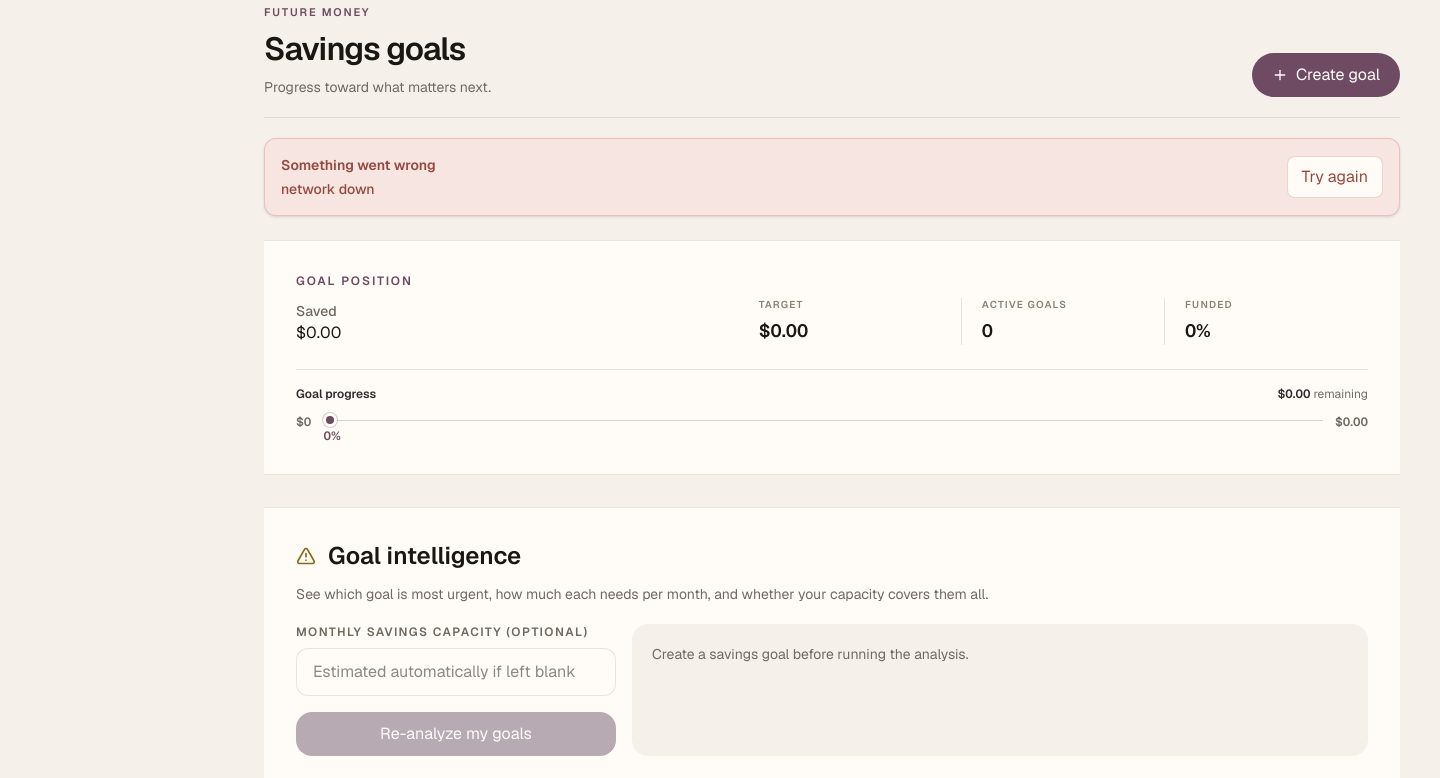
Test: goals loading and error states › shows a retryable error instead of an empty state when the initial load fails
This screenshot has width=1440, height=778.
Expected: the text "network down" is shown, [281,180,374,198]
Click the button "Try again". click: (1335, 176)
box: [1286,156,1383,198]
(page scrolled)
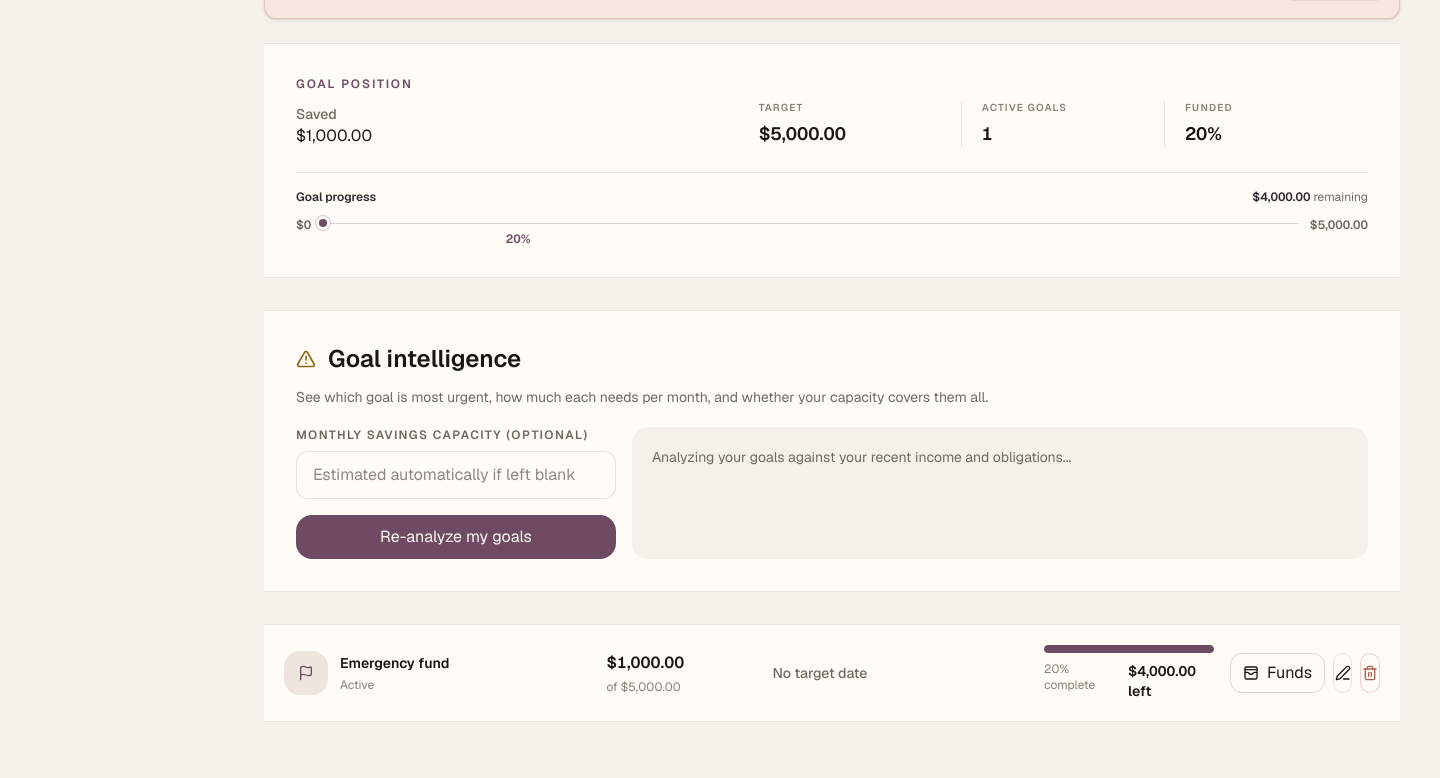
Expected: the text "Emergency fund" is shown, [340,652,449,672]
